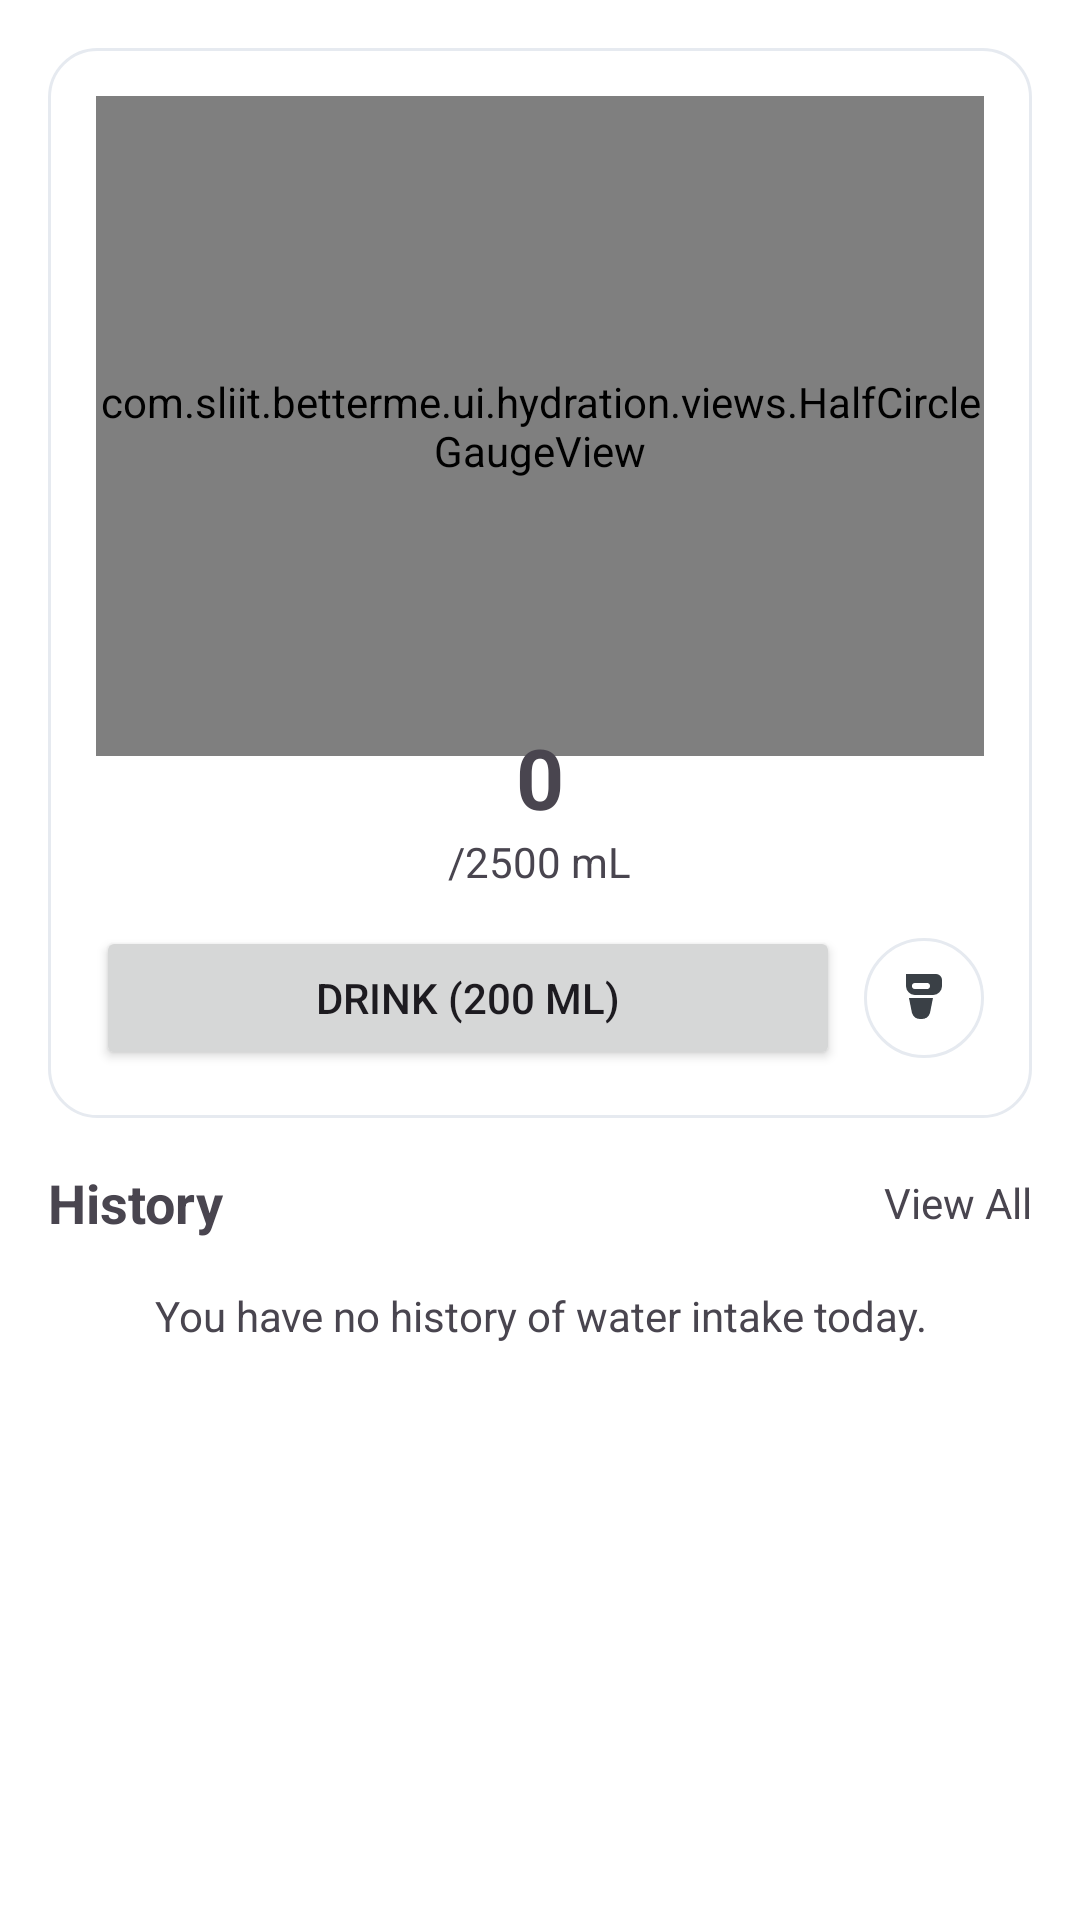

Icons on this 1080*1920 Android screen, each with its box as (x1, y1, x2, y2):
Cup: (864, 938, 984, 1058)
